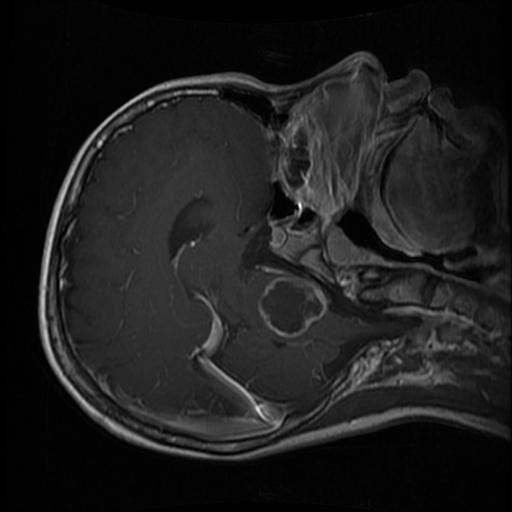glioma: (256, 278, 328, 339)
